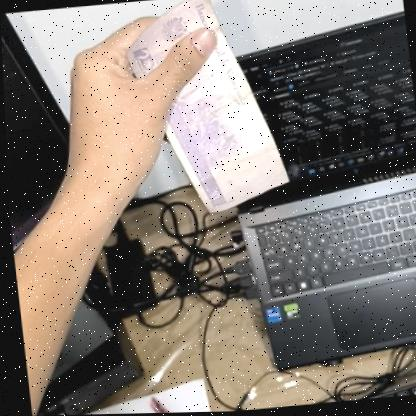ten-back-vef: (117, 0, 290, 221)
